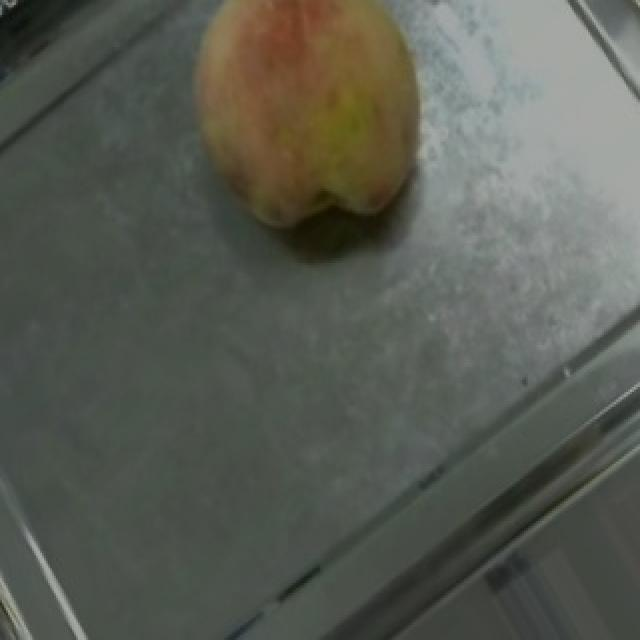Fruit: (144, 0, 468, 270)
